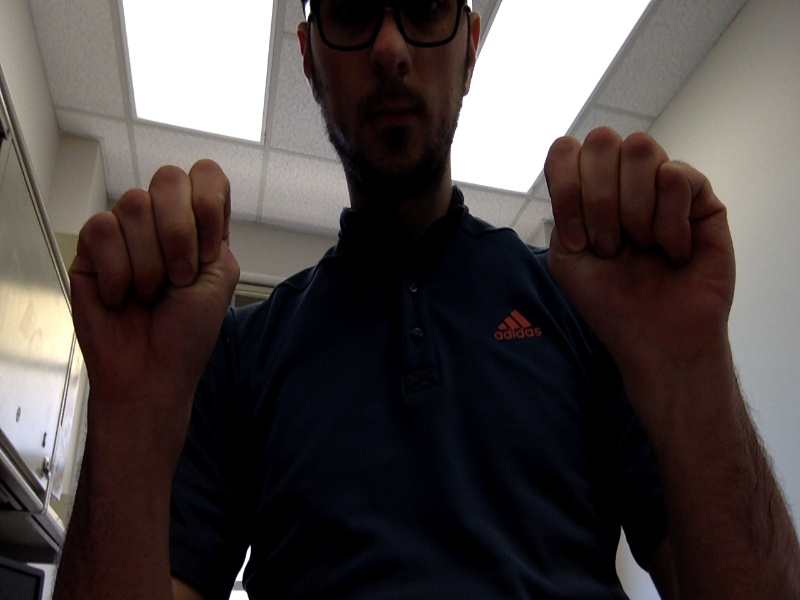0-hand: (543, 124, 735, 357), (69, 159, 238, 393)
